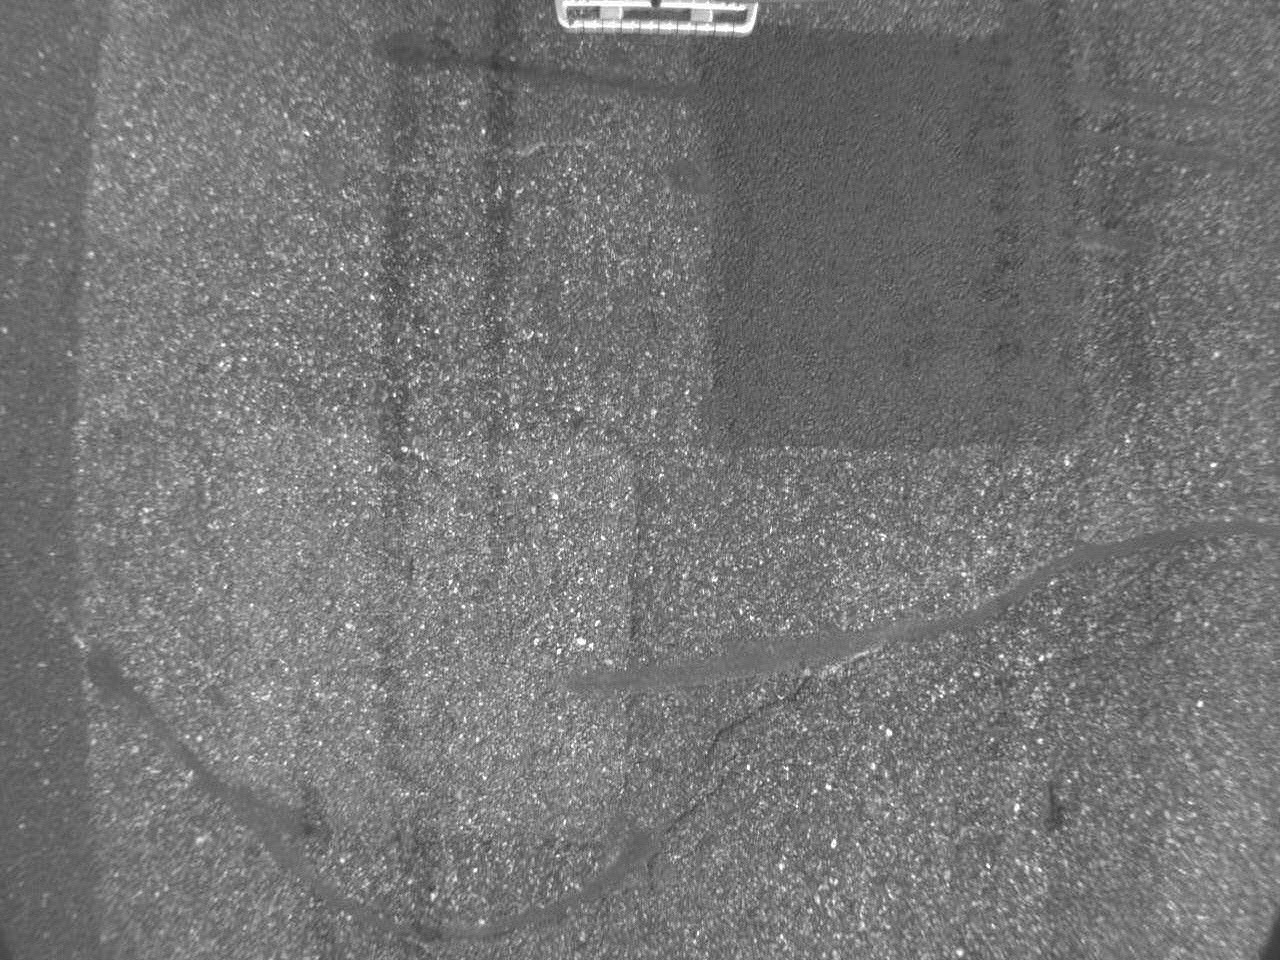sealed: (558, 517, 1276, 706)
